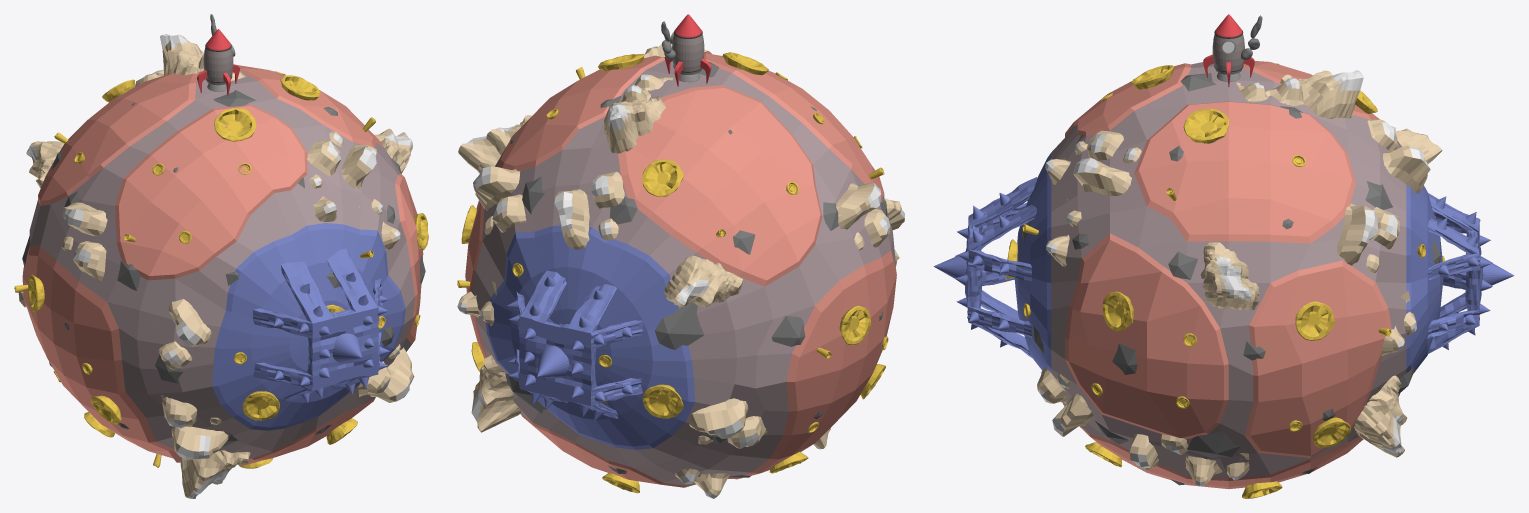
The model's file is FirstLevel.fbx.
3 views of the same model, side by side, from view 1: azimuth 30°, elevation 25°; view 2: azimuth 150°, elevation 25°; view 3: azimuth 270°, elevation 25° (orthographic). The views are drawn at different scales.
Visible parts, largest first — view 1: Planet1, Cone.028, Planet2, Mont 2.009, Mont 2.007, Mont 2.001, Mont 2.005, Mont 3.005, Mont 2.003, Cylinder, Mont 3.001, Heiser 3.005 (+8 smaller); view 2: Planet1, Cone.005, Planet2, Mont 2.006, Mont 3.003, Mont 2.004, Mont 2.002, Mont 3.004, Mont 3.001, Mont 2.007, Cylinder, Mont 3.002 (+8 smaller); view 3: Planet1, Cone.028, Cone.005, Planet2, Mont 3.002, Mont 2.002, Mont 2.001, Mont 3.004, Mont 3.001, Mont 2.006, Mont 2.003, Cylinder (+11 smaller).
Part boxes in pixels (bbox=[...]): Planet1: bbox=[22, 65, 423, 466]; Cone.028: bbox=[253, 248, 389, 403]; Planet2: bbox=[22, 90, 425, 447]; Mont 2.009: bbox=[161, 395, 228, 460]; Mont 2.007: bbox=[62, 202, 107, 281]; Mont 2.001: bbox=[307, 131, 376, 207]; Mont 2.005: bbox=[156, 299, 211, 370]; Mont 3.005: bbox=[180, 450, 250, 498]; Mont 2.003: bbox=[358, 344, 414, 402]; Cylinder: bbox=[203, 29, 233, 91]; Mont 3.001: bbox=[160, 34, 203, 75]; Heiser 3.005: bbox=[214, 108, 256, 141]; Planet1: bbox=[465, 51, 896, 487]; Cone.005: bbox=[507, 270, 643, 420]; Planet2: bbox=[505, 62, 887, 477]; Mont 2.006: bbox=[554, 171, 624, 249]; Mont 3.003: bbox=[664, 255, 742, 307]; Mont 2.004: bbox=[689, 398, 768, 448]; Mont 2.002: bbox=[473, 166, 526, 234]; Mont 3.004: bbox=[471, 355, 520, 432]; Mont 3.001: bbox=[604, 96, 665, 153]; Mont 2.007: bbox=[836, 182, 890, 250]; Cylinder: bbox=[672, 14, 704, 82]; Mont 3.002: bbox=[458, 115, 531, 173]; Planet1: bbox=[1014, 61, 1443, 489]; Cone.028: bbox=[933, 177, 1036, 358]; Cone.005: bbox=[1425, 193, 1514, 353]; Planet2: bbox=[1022, 63, 1440, 485]; Mont 3.002: bbox=[1200, 242, 1259, 310]; Mont 2.002: bbox=[1337, 203, 1399, 272]; Mont 2.001: bbox=[1067, 130, 1141, 200]; Mont 3.004: bbox=[1354, 375, 1407, 457]; Mont 3.001: bbox=[1280, 70, 1363, 118]; Mont 2.006: bbox=[1367, 119, 1430, 193]; Mont 2.003: bbox=[1037, 368, 1093, 436]; Cylinder: bbox=[1212, 14, 1244, 81].
Bounding box in the file's own units: 10942 × 11863 × 13610.
